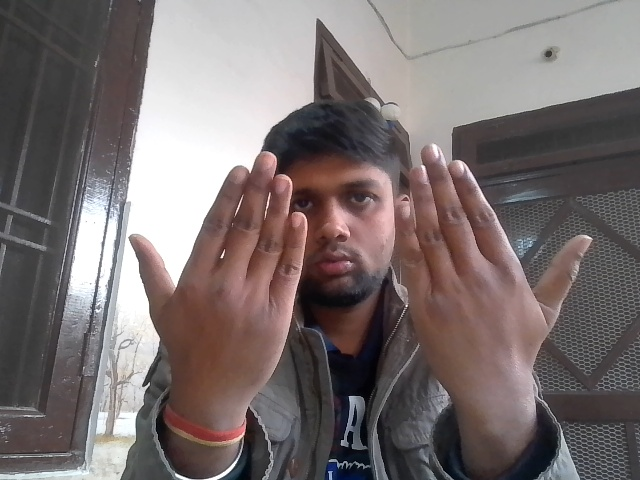ThankYou: (115, 144, 593, 429)
